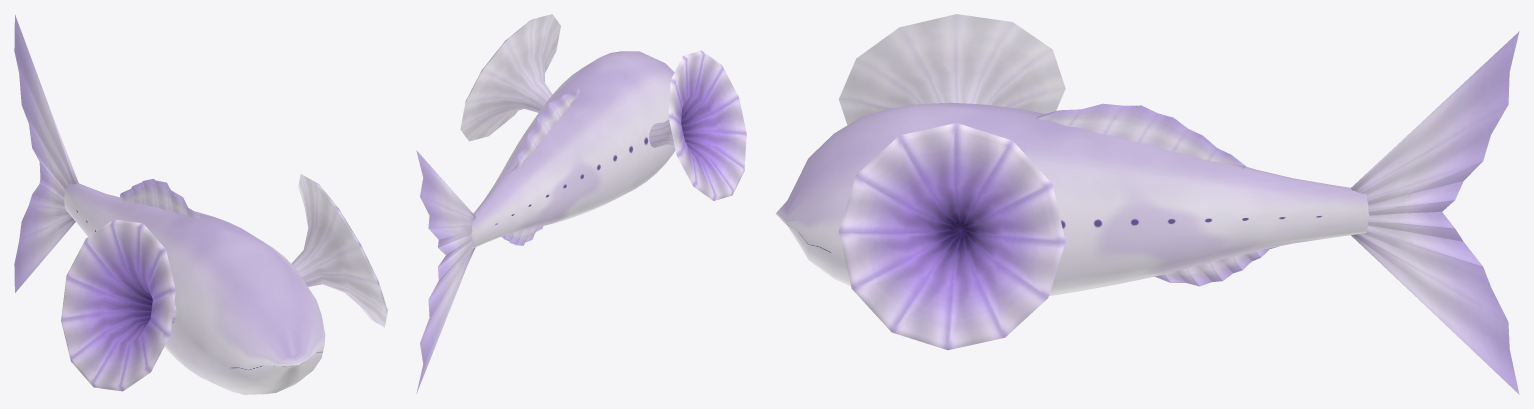
The model's file is the-listener.glb.
The picture shows the model from 3 angles, left to right: view 1: azimuth 30°, elevation 25°; view 2: azimuth 150°, elevation 25°; view 3: azimuth 270°, elevation 25°; orthographic projection. The views are drawn at different scales.
Visible parts, largest first — view 1: the-listener; view 2: the-listener; view 3: the-listener.
Part boxes in pixels (box(x1,y1,x2,y2)): the-listener: box(14, 15, 387, 394); the-listener: box(416, 14, 746, 393); the-listener: box(775, 14, 1519, 394).
Size of the model in its own units: 0.5671 by 0.5396 by 1.
1 material, 1 textured.
